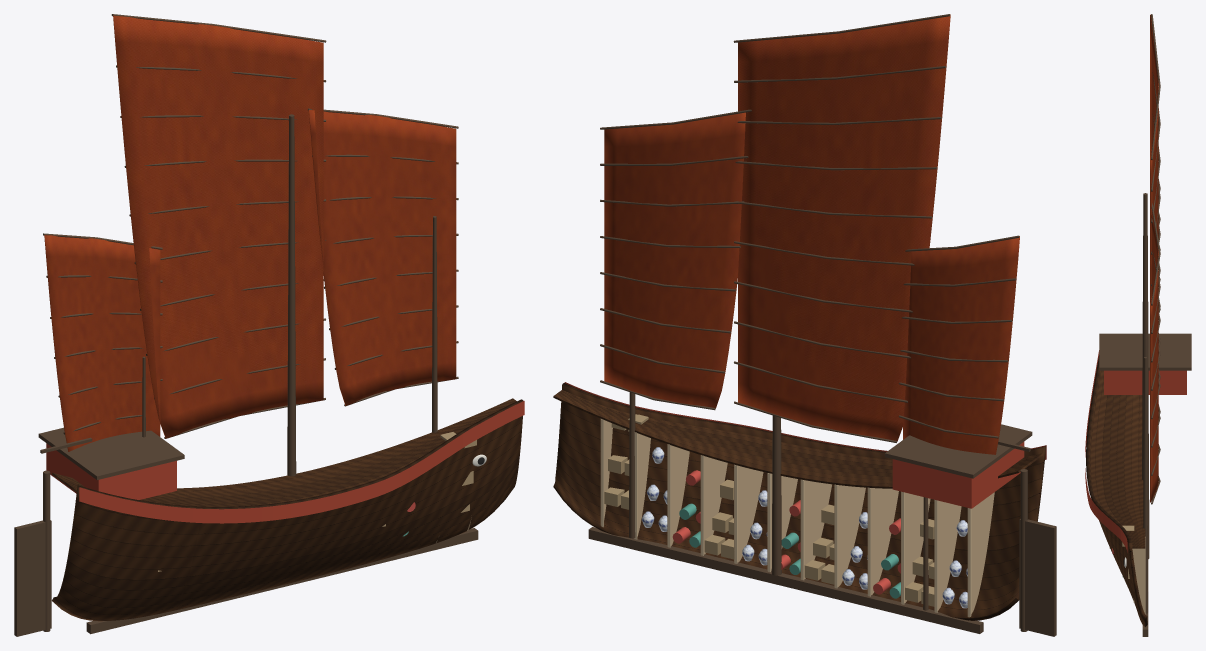
File: junk_cutaway.glb
3 views of the same model, side by side, from view 1: azimuth 30°, elevation 25°; view 2: azimuth 150°, elevation 25°; view 3: azimuth 270°, elevation 25° (orthographic). The views are drawn at different scales.
Visible parts, largest first — view 1: junk_sail0, junk_hull_port, junk_sail1, junk_sail2, junk_deck_port, junk_wale, junk_cabinroof, junk_rudder, junk_sterncabin, junk_mast0, junk_keel, junk_mast1 (+1 smaller); view 2: junk_sail0, junk_sail1, junk_hull_port, junk_sail2, junk_deck_port, junk_keel, junk_sterncabin, junk_rudder, junk_cabinroof, junk_bulkhead03, junk_bulkhead04, junk_bulkhead00 (+12 smaller); view 3: junk_deck_port, junk_cabinroof, junk_hull_port, junk_sail1, junk_sterncabin, junk_mast0, junk_sail0, junk_mast1, junk_wale, junk_bulkhead11, junk_sail0_bat9, junk_sail1_bat7 (+1 smaller).
Boxes of the visible parts, bbox=[...] form: junk_sail0: bbox=[113, 15, 323, 438]; junk_hull_port: bbox=[52, 399, 523, 621]; junk_sail1: bbox=[308, 110, 456, 405]; junk_sail2: bbox=[44, 235, 160, 451]; junk_deck_port: bbox=[52, 398, 516, 506]; junk_wale: bbox=[79, 401, 524, 523]; junk_cabinroof: bbox=[38, 427, 184, 479]; junk_rudder: bbox=[14, 520, 51, 636]; junk_sterncabin: bbox=[46, 443, 176, 499]; junk_mast0: bbox=[287, 114, 296, 476]; junk_keel: bbox=[86, 528, 478, 634]; junk_mast1: bbox=[432, 216, 437, 432]; junk_sail0: bbox=[738, 14, 950, 441]; junk_sail1: bbox=[604, 112, 745, 408]; junk_hull_port: bbox=[553, 383, 1046, 620]; junk_sail2: bbox=[903, 236, 1019, 454]; junk_deck_port: bbox=[553, 390, 1045, 488]; junk_keel: bbox=[588, 527, 983, 633]; junk_sterncabin: bbox=[892, 442, 1024, 508]; junk_rudder: bbox=[1019, 519, 1056, 636]; junk_cabinroof: bbox=[885, 424, 1032, 478]; junk_bulkhead03: bbox=[867, 487, 898, 595]; junk_bulkhead04: bbox=[834, 484, 865, 587]; junk_bulkhead00: bbox=[967, 492, 994, 616]; junk_deck_port: bbox=[1091, 370, 1145, 548]; junk_cabinroof: bbox=[1099, 333, 1191, 370]; junk_hull_port: bbox=[1086, 355, 1147, 626]; junk_sail1: bbox=[1150, 209, 1158, 502]; junk_sterncabin: bbox=[1104, 370, 1186, 394]; junk_mast0: bbox=[1142, 193, 1149, 559]; junk_sail0: bbox=[1150, 14, 1158, 303]; junk_mast1: bbox=[1143, 357, 1148, 613]; junk_wale: bbox=[1085, 350, 1127, 552]; junk_bulkhead11: bbox=[1132, 548, 1145, 613]; junk_sail0_bat9: bbox=[1151, 14, 1160, 159]; junk_sail1_bat7: bbox=[1151, 203, 1160, 305].
Size of the model in its own units: 34.5 by 40.36 by 8.06.
12 materials, 3 textured.
